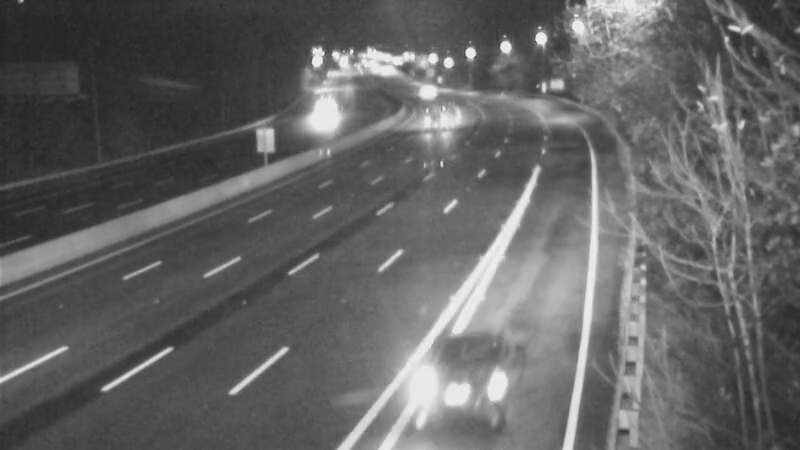vehicle: (406, 334, 516, 444), (400, 67, 450, 117), (414, 86, 464, 136), (295, 92, 345, 142)
